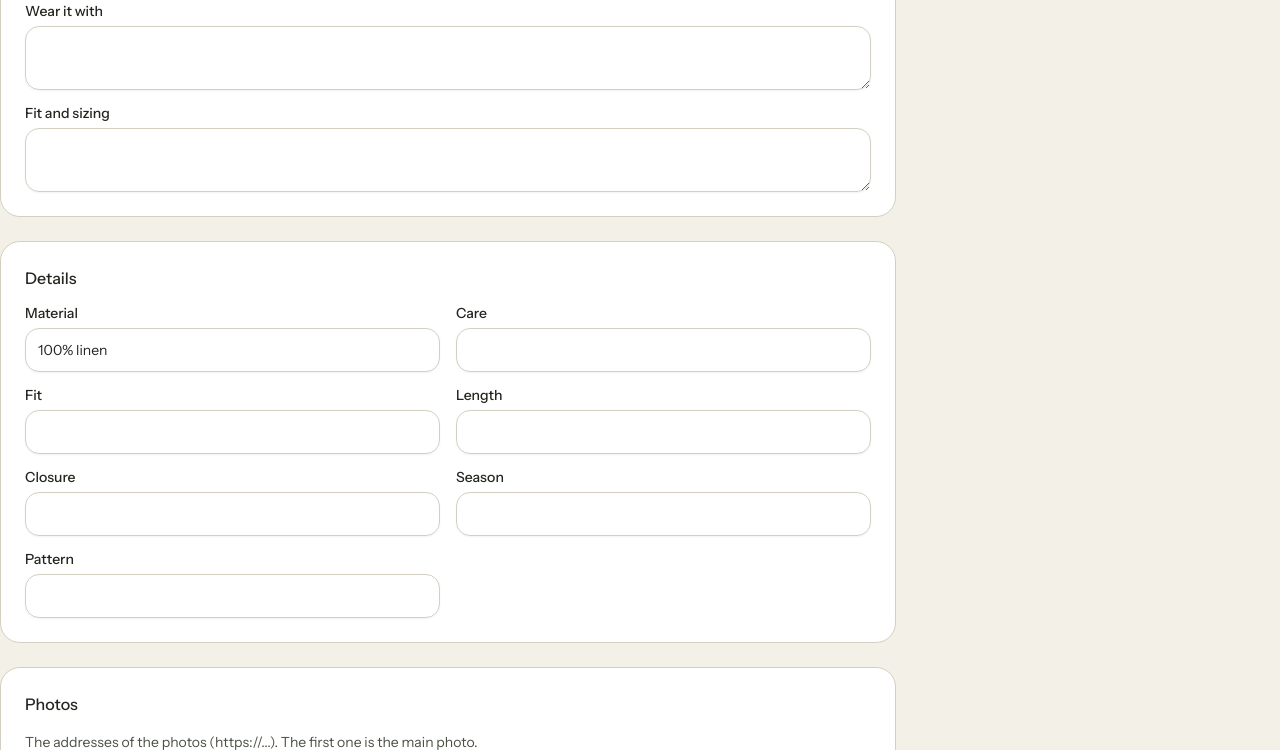
Test case: admin ProductEditPage: an existing product › sends an emptied optional field as null, so it is cleared
(page scrolled)
Clear the field labelled "Material": (232, 350) [25, 328, 440, 372]
(page scrolled)
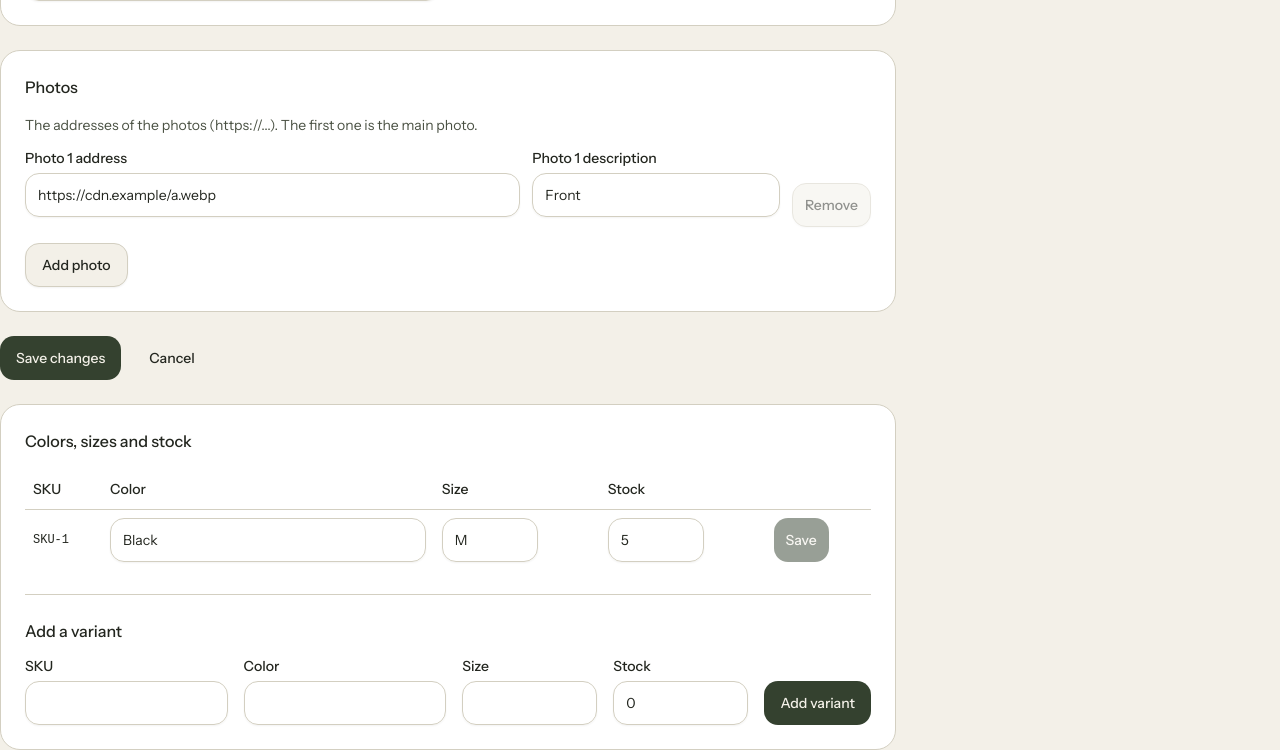
Click the button "Save changes": click(61, 358) [0, 336, 121, 380]
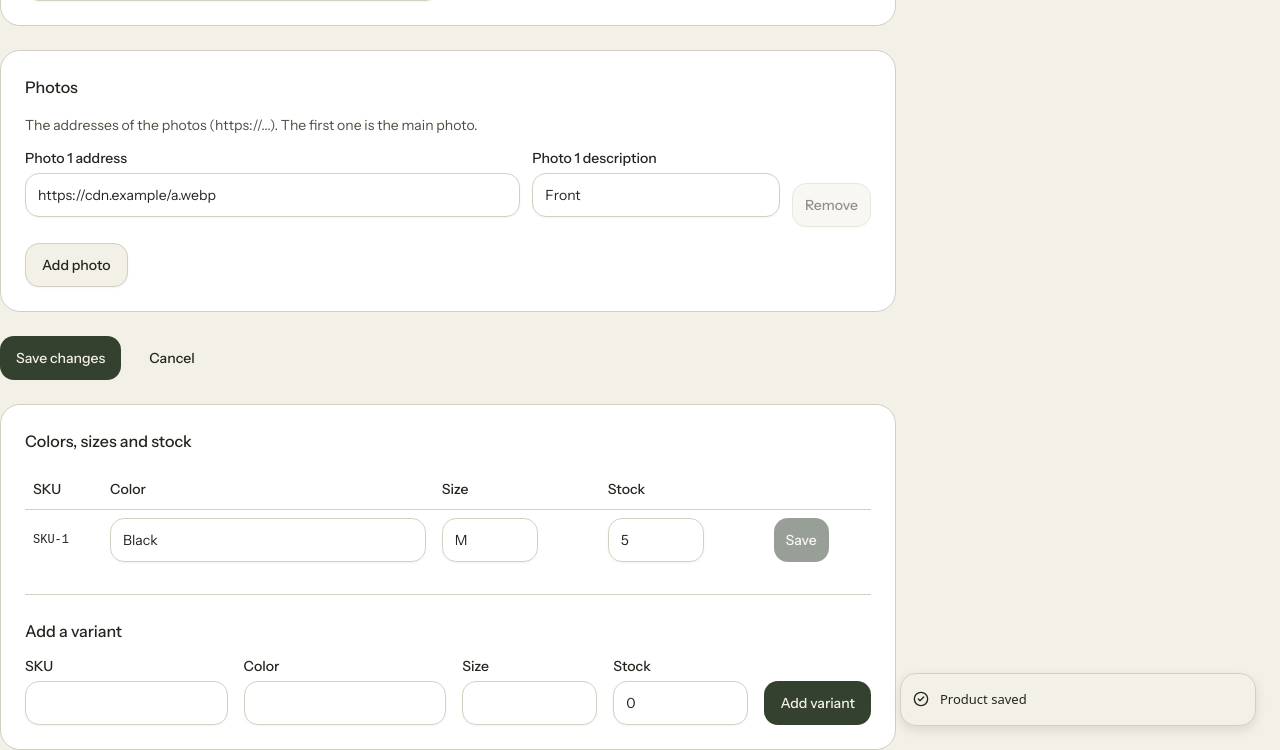
Check: the text "Product saved" is shown, box [940, 690, 1027, 709]
